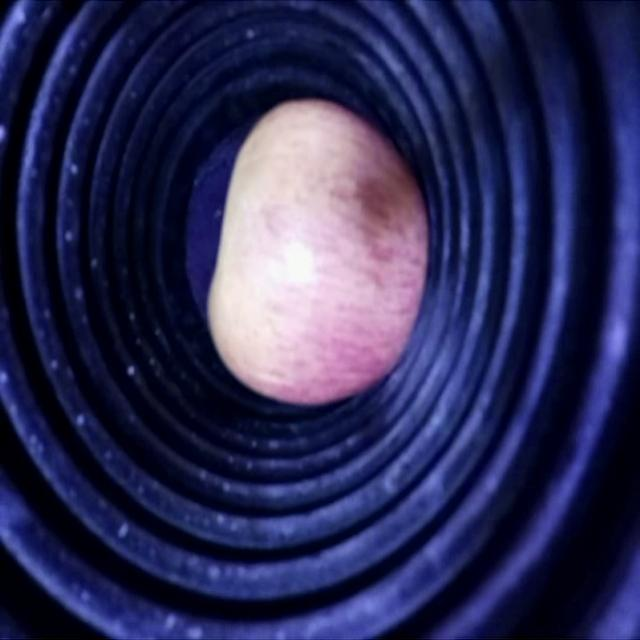obstacles: (210, 110, 426, 400)
